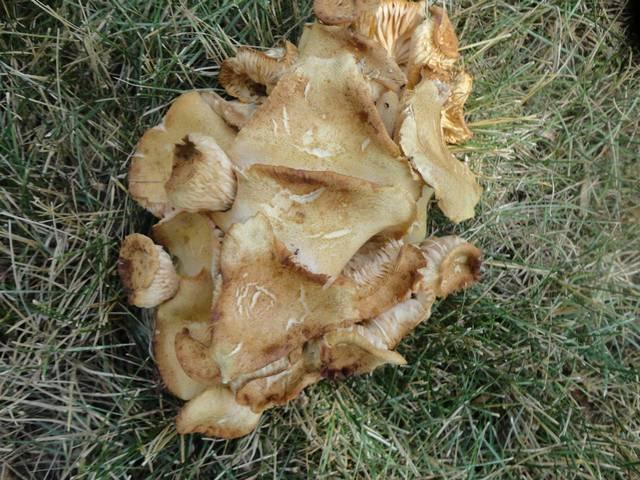edible_mushroom: (117, 0, 484, 440)
